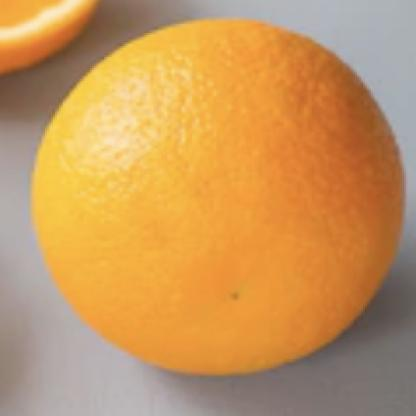fresh: (34, 18, 407, 376)
